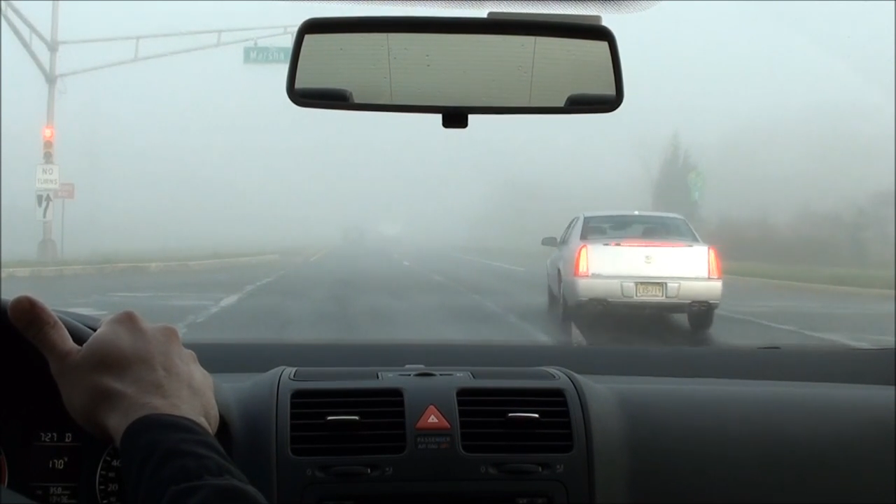car: (539, 209, 726, 332)
